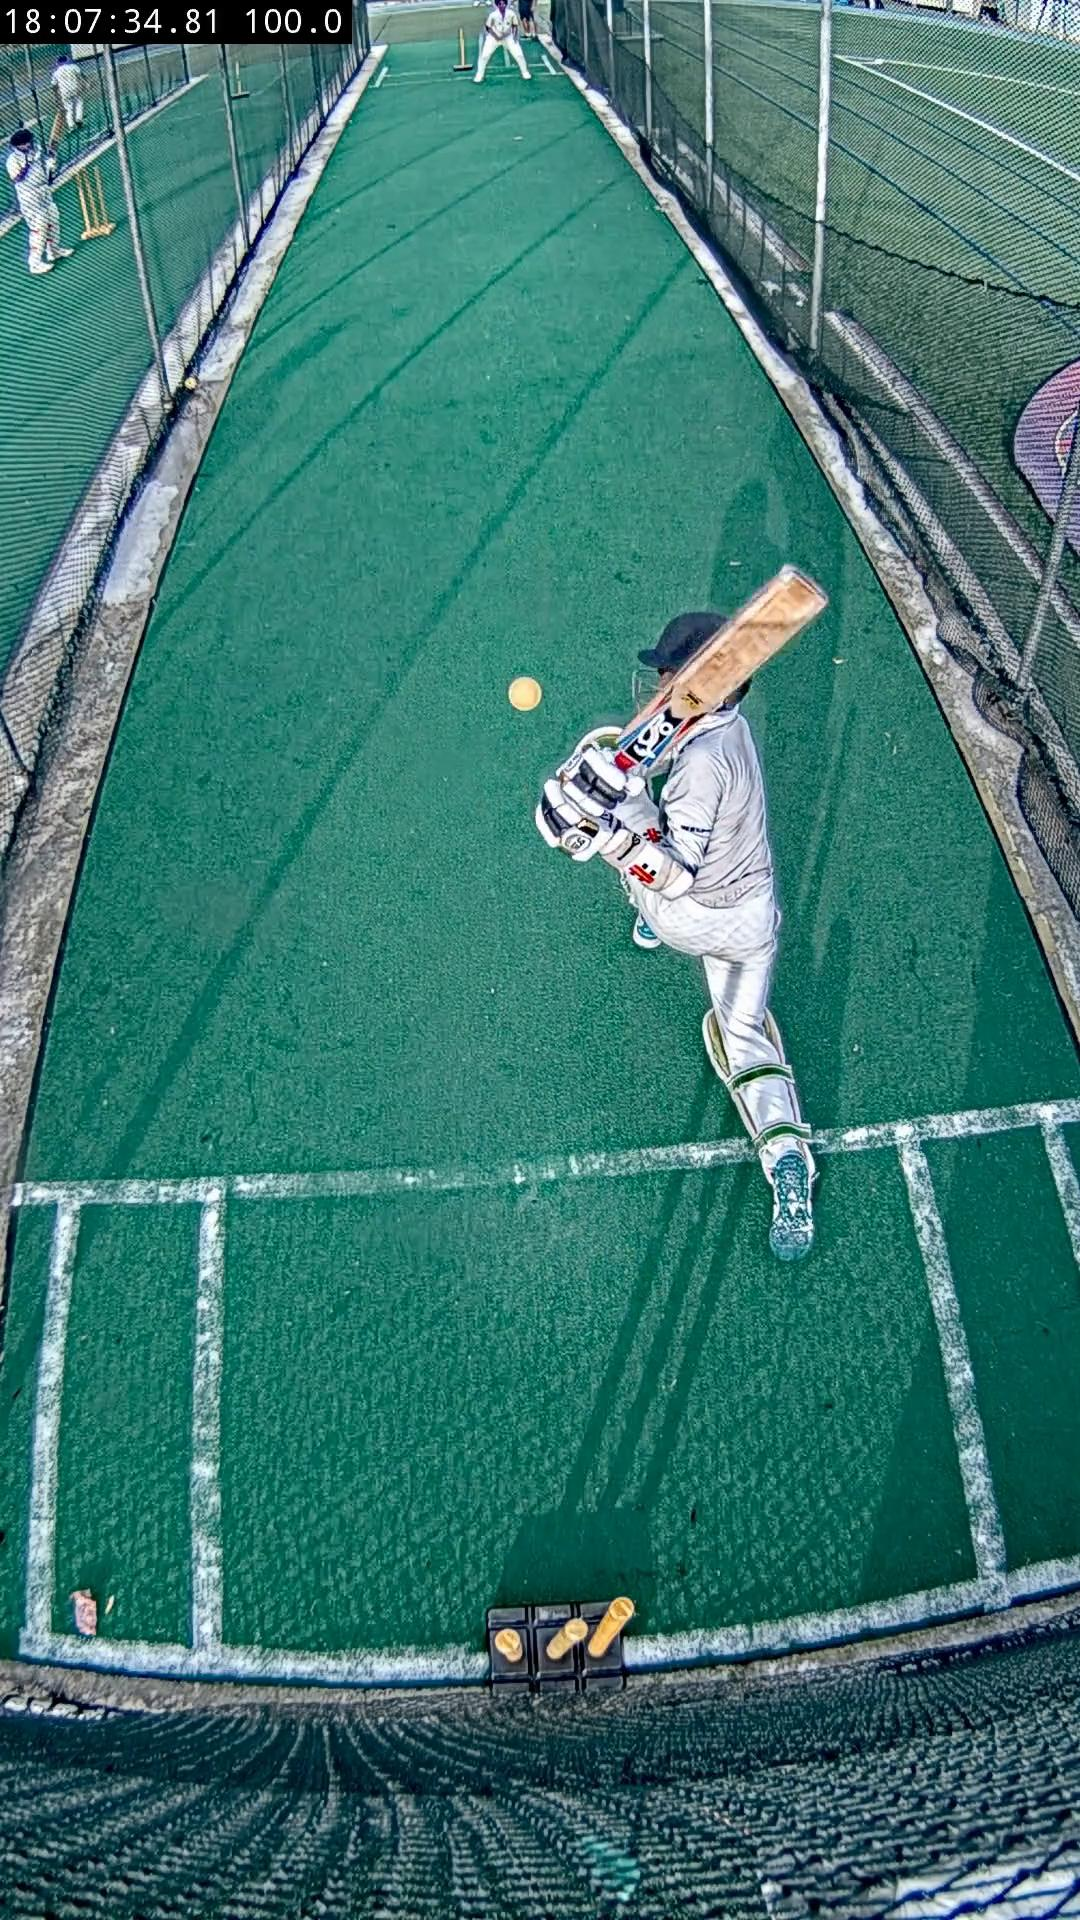ball: (506, 675, 543, 712)
bat: (630, 566, 828, 725)
gloves: (537, 728, 630, 858)
helmet: (637, 612, 728, 675), (728, 679, 750, 705)
stumps: (488, 1597, 634, 1692)
